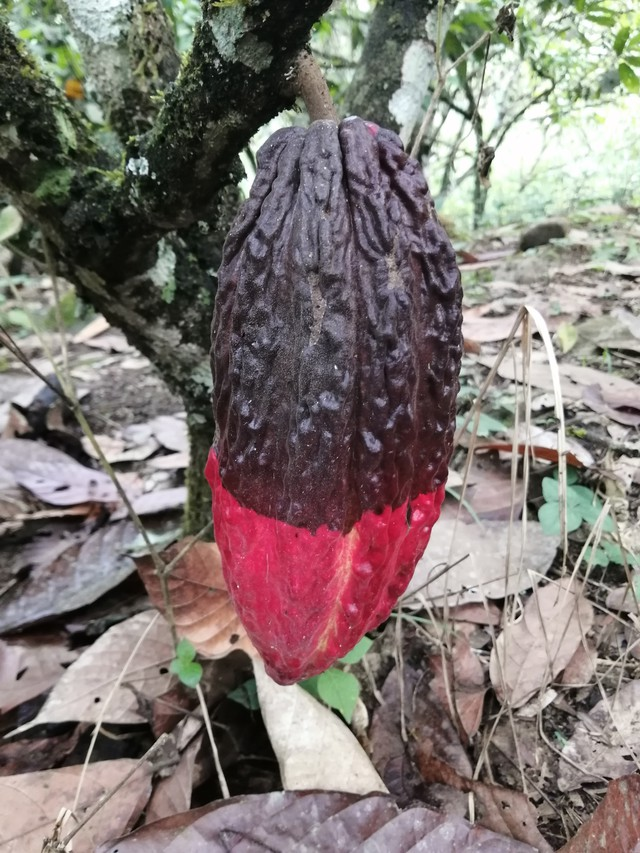phytophthora palmivora: (188, 103, 477, 690)
